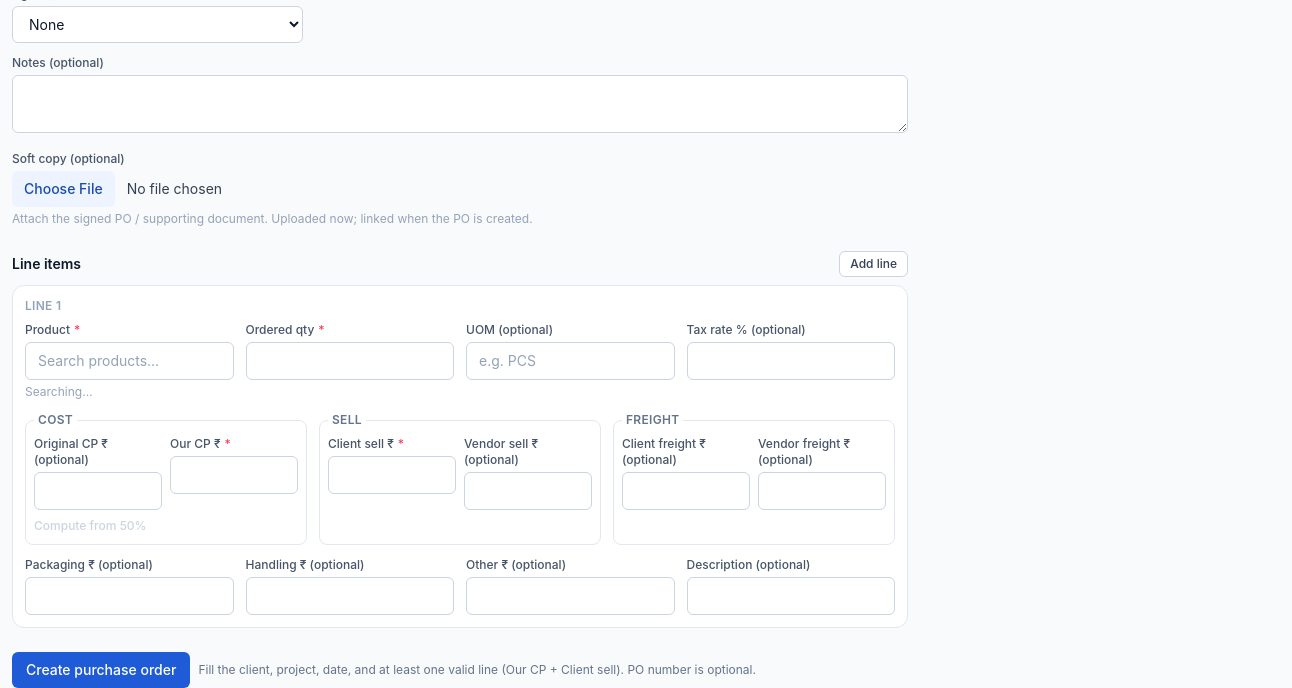
Test: PO create form › "Compute from 50%" sets Our CP = Original CP + (Vendor sell − Original CP) / 2
The width and height of the screenshot is (1292, 688).
(page scrolled)
Expected: the button "Compute from 50%" is disabled, [34,518,146,534]
Type "100" into the field labelled "Original CP ₹ (optional)" at (98, 491), box [34,472,162,510]
(page scrolled)
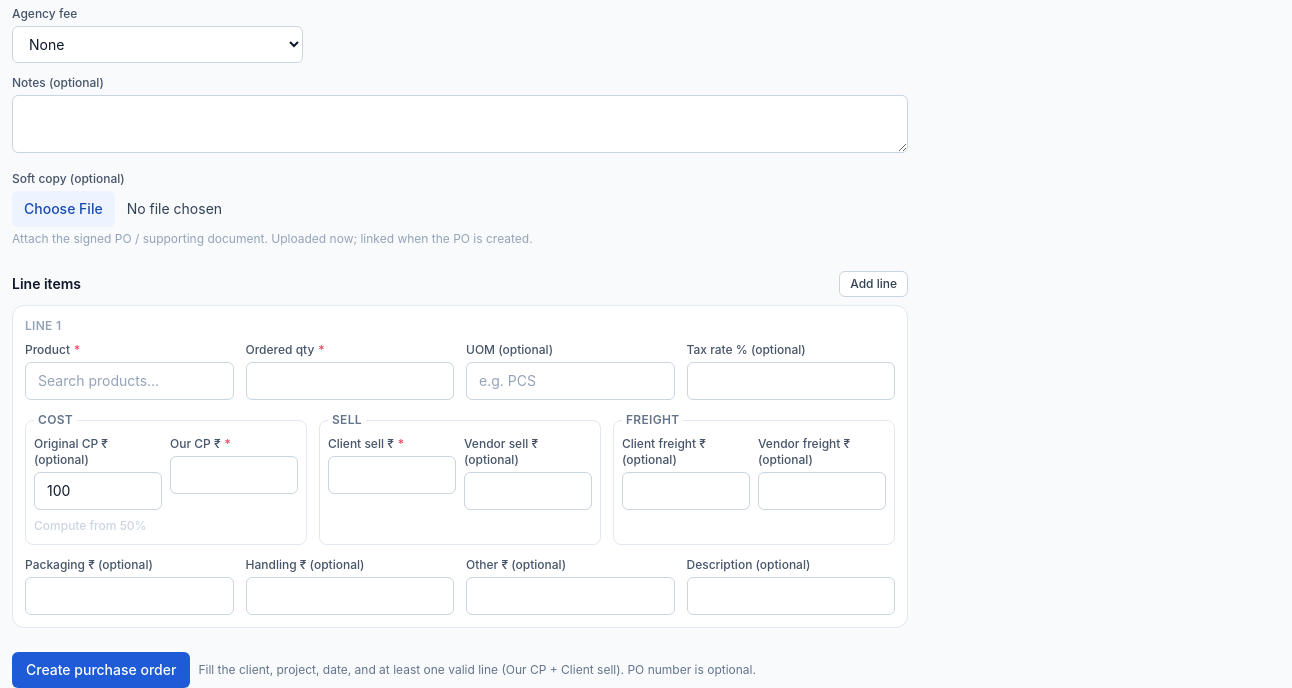
Type "200" into the field labelled "Vendor sell ₹ (optional)" at (528, 491), box [464,472,592,510]
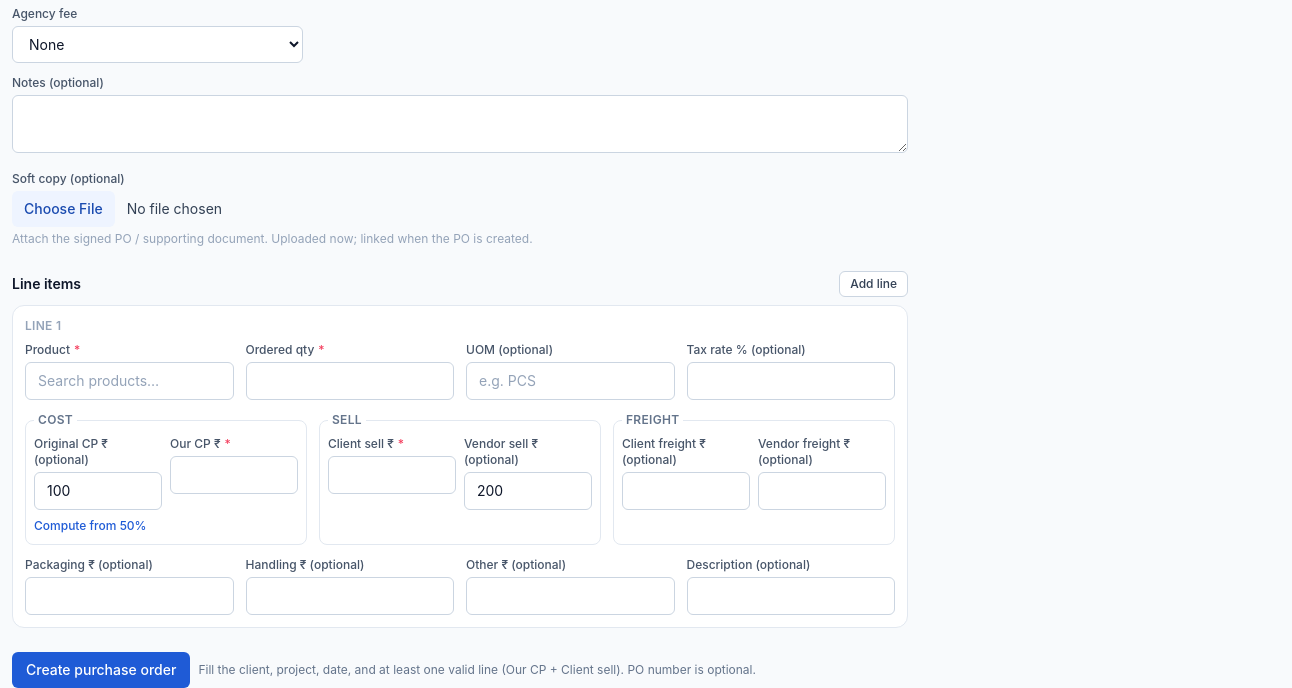
Expected: the button "Compute from 50%" is enabled
Click the button "Compute from 50%" at (90, 526), box [34,518,146,534]
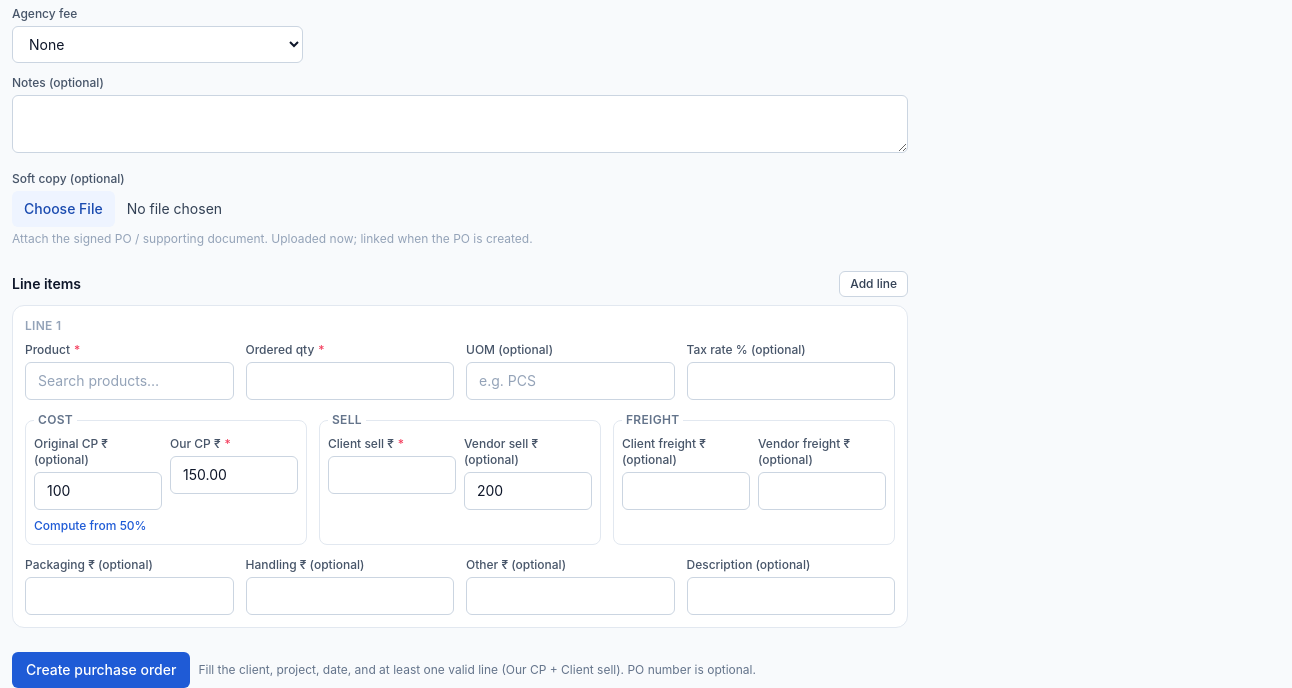
Expected: the field labelled "Our CP ₹ *" holds "150.00", [170,456,298,494]
